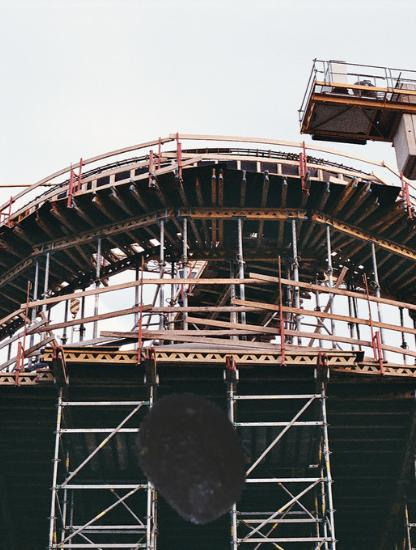Avocado: (126, 392, 259, 525)
